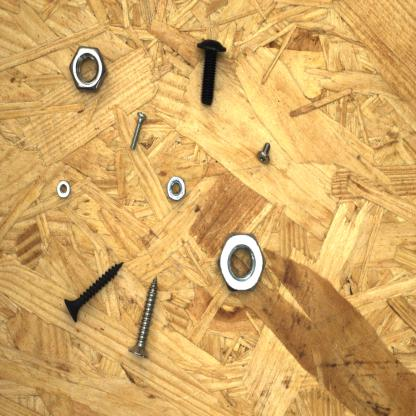screw: (62, 258, 126, 324), (125, 272, 161, 362), (194, 34, 229, 108), (127, 109, 148, 154), (254, 138, 274, 168)
